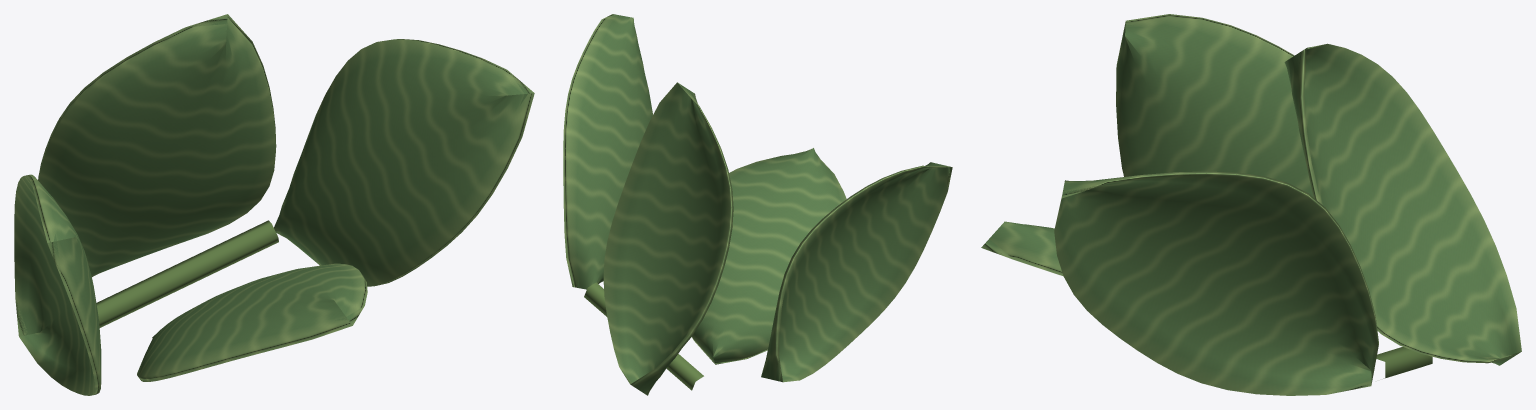
Rendered from sansevieria-stage-1.glb.
3 views of the same model, side by side, from view 1: azimuth 30°, elevation 25°; view 2: azimuth 150°, elevation 25°; view 3: azimuth 270°, elevation 25° (orthographic). The views are drawn at different scales.
Visible parts, largest first — view 1: Leaf_3, Leaf_1, Leaf_0, Leaf_2, PlantBranches; view 2: Leaf_1, Leaf_2, Leaf_3, Leaf_0, PlantBranches; view 3: Leaf_3, Leaf_1, Leaf_2, Leaf_0, PlantBranches.
Part boxes in pixels (<box>): Leaf_3: <box>274,39,534,286</box>; Leaf_1: <box>38,14,276,276</box>; Leaf_0: <box>137,263,367,381</box>; Leaf_2: <box>14,174,101,395</box>; PlantBranches: <box>96,220,278,327</box>; Leaf_1: <box>603,82,733,395</box>; Leaf_2: <box>761,162,952,382</box>; Leaf_3: <box>563,14,652,289</box>; Leaf_0: <box>692,148,846,364</box>; PlantBranches: <box>584,282,703,390</box>; Leaf_3: <box>1054,171,1378,395</box>; Leaf_1: <box>1284,43,1521,365</box>; Leaf_2: <box>1116,14,1312,196</box>; Leaf_0: <box>981,221,1063,276</box>; PlantBranches: <box>1376,347,1432,378</box>.
Size of the model in its own units: 1.04 by 0.7364 by 0.9762.
2 materials, 1 textured.
